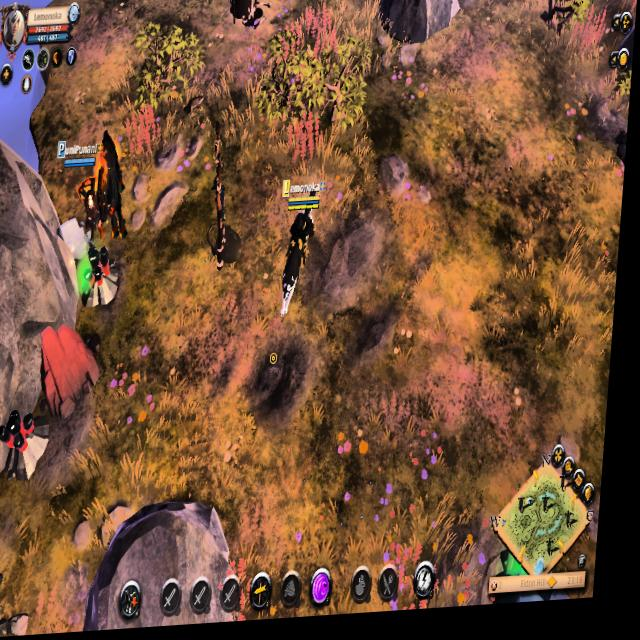ore tier 5: (1, 406, 57, 485), (82, 246, 127, 311)
rock tier 5: (41, 321, 112, 420)
